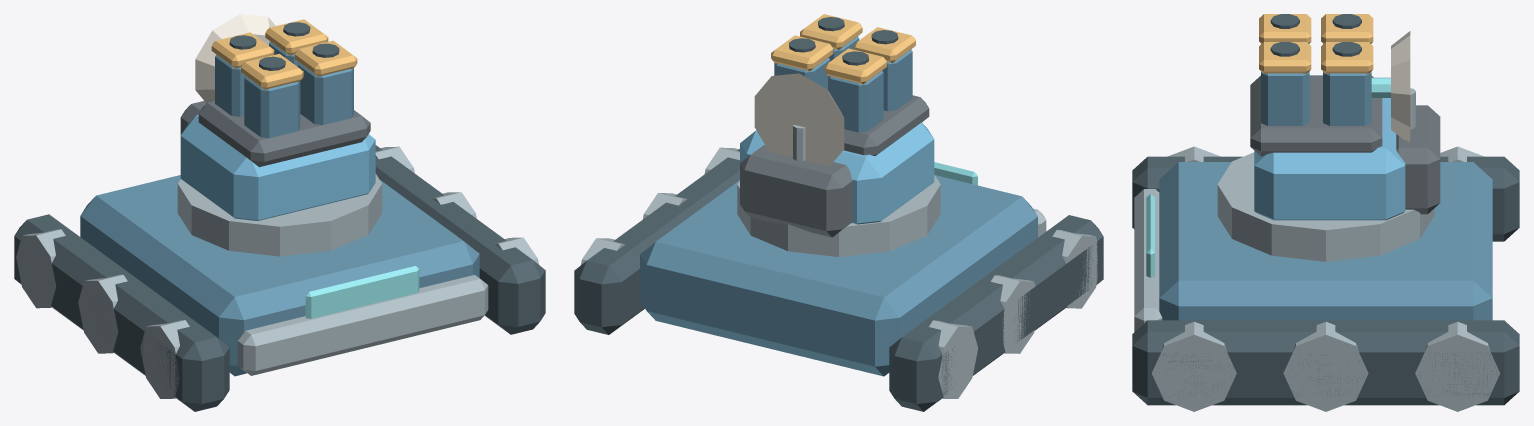
Rendered from AntiAir.glb.
3 views of the same model, side by side, from view 1: azimuth 30°, elevation 25°; view 2: azimuth 150°, elevation 25°; view 3: azimuth 270°, elevation 25° (orthographic). The views are drawn at different scales.
Visible parts, largest first — view 1: ChassisBody, LeftTrack, TurretHousing, FrontBumper, TurretRing, RightTrack, MissileLauncherBase, TeamPanel, LeftFrontLaunchCellBody, RightFrontLaunchCellBody, LeftRoadWheel2, LeftRoadWheel3 (+7 smaller); view 2: ChassisBody, LeftTrack, RightTrack, TurretRearAmmoBox, TurretHousing, RadarDish, TurretRing, LeftRoadWheel3, LeftRearLaunchCellBody, MissileLauncherBase, LeftRoadWheel2, LeftRoadWheel1 (+7 smaller); view 3: ChassisBody, RightTrack, TurretHousing, TurretRing, RightRoadWheel2, RightRoadWheel1, RightRoadWheel3, MissileLauncherBase, LeftTrack, TurretRearAmmoBox, FrontBumper, RightFrontLaunchCellBody (+14 smaller).
Boxes of the visible parts, <box> form: ChassisBody: <box>80,175,479,376</box>; LeftTrack: <box>14,214,229,411</box>; TurretHousing: <box>180,114,375,220</box>; FrontBumper: <box>237,275,488,375</box>; TurretRing: <box>177,174,382,256</box>; RightTrack: <box>375,145,545,334</box>; MissileLauncherBase: <box>198,101,370,167</box>; TeamPanel: <box>305,266,419,318</box>; LeftFrontLaunchCellBody: <box>244,76,300,138</box>; RightFrontLaunchCellBody: <box>298,63,353,124</box>; LeftRoadWheel2: <box>78,274,127,353</box>; LeftRoadWheel3: <box>16,229,65,308</box>; ChassisBody: <box>640,175,1037,376</box>; LeftTrack: <box>889,215,1103,411</box>; RightTrack: <box>574,149,739,334</box>; TurretRearAmmoBox: <box>740,145,852,237</box>; TurretHousing: <box>740,122,934,224</box>; RadarDish: <box>754,73,844,166</box>; TurretRing: <box>737,175,940,256</box>; LeftRoadWheel3: <box>929,320,978,398</box>; LeftRearLaunchCellBody: <box>828,71,883,132</box>; MissileLauncherBase: <box>843,95,929,155</box>; LeftRoadWheel2: <box>991,275,1035,353</box>; LeftRoadWheel1: <box>1052,230,1097,308</box>; ChassisBody: <box>1159,162,1492,320</box>; RightTrack: <box>1132,320,1519,405</box>; TurretHousing: <box>1254,98,1405,220</box>; TurretRing: <box>1217,152,1434,261</box>; RightRoadWheel2: <box>1283,322,1368,411</box>; RightRoadWheel1: <box>1151,321,1236,411</box>; RightRoadWheel3: <box>1415,321,1500,411</box>; MissileLauncherBase: <box>1250,75,1382,156</box>; LeftTrack: <box>1132,156,1519,241</box>; TurretRearAmmoBox: <box>1396,105,1440,214</box>; FrontBumper: <box>1134,189,1162,331</box>; RightFrontLaunchCellBody: <box>1261,71,1309,125</box>.
Size of the model in its own units: 2.3 by 1.62 by 2.
